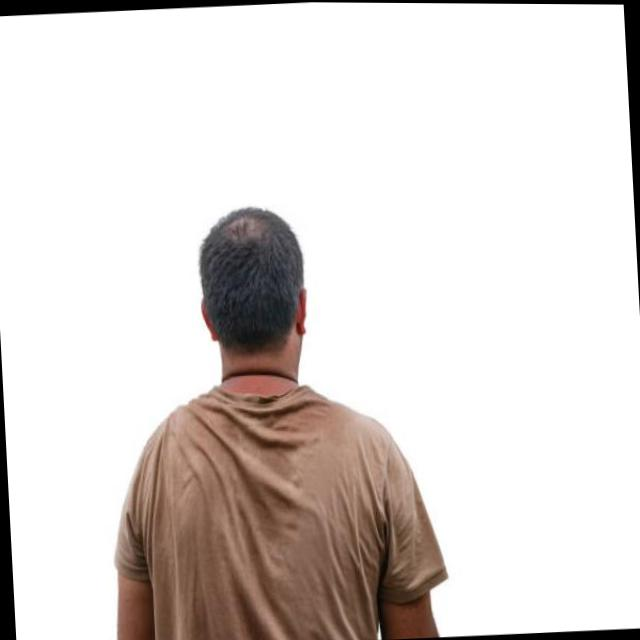no helmet: (196, 205, 322, 397)
